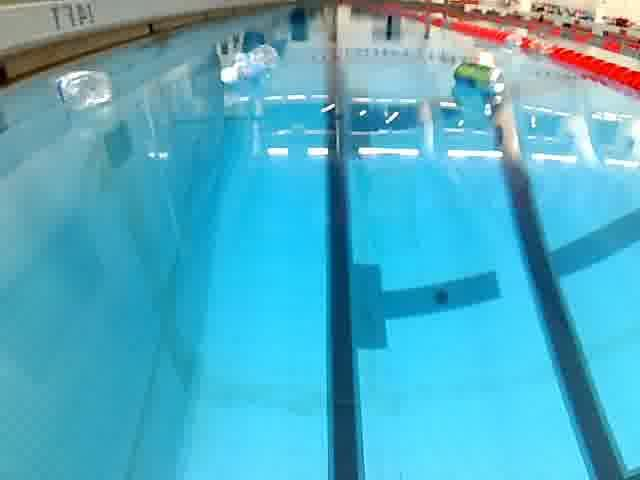Bottle: (44, 64, 119, 114), (216, 42, 284, 88), (472, 46, 500, 73)
Can: (448, 60, 512, 98)
